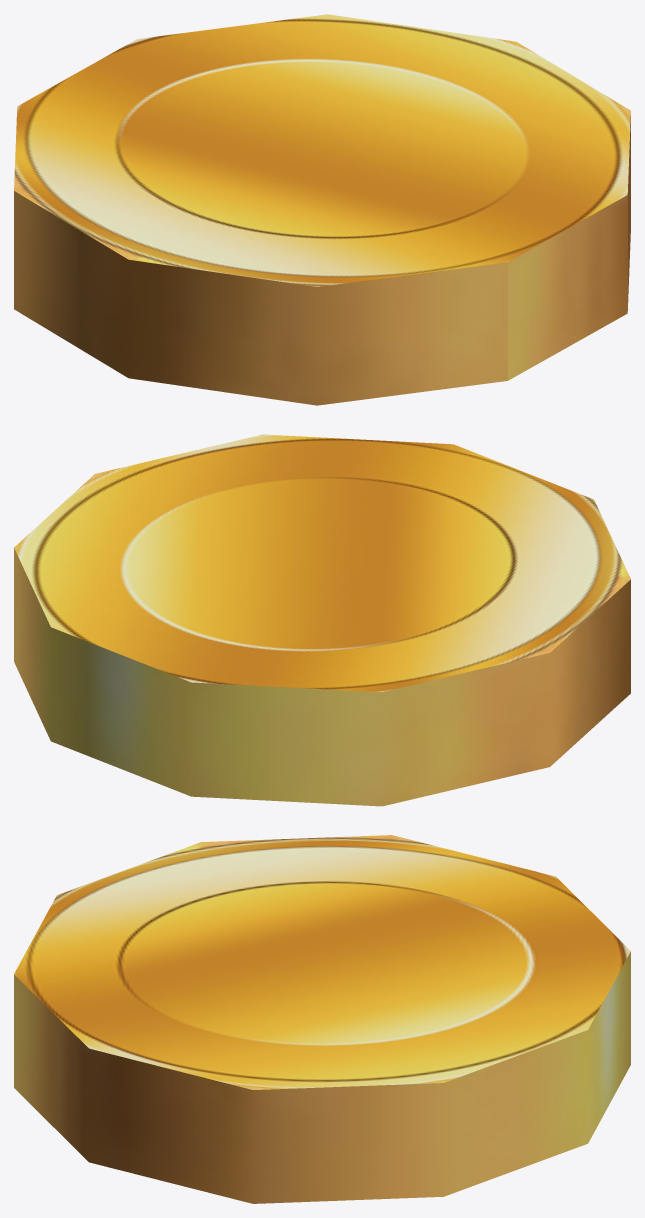
Rendered from goldcoin.FBX.
The picture shows the model from 3 angles, top to bottom: view 1: azimuth 30°, elevation 25°; view 2: azimuth 150°, elevation 25°; view 3: azimuth 270°, elevation 25°; orthographic projection. The views are drawn at different scales.
Visible parts, largest first — view 1: Object01; view 2: Object01; view 3: Object01.
Boxes of the visible parts, left/top/right/bottom form: Object01: left=14, top=14, right=630, bottom=405; Object01: left=14, top=434, right=630, bottom=806; Object01: left=14, top=835, right=630, bottom=1203.
Bounding box in the file's own units: 0.3888 × 0.0809 × 0.3974.
Materials: 1 (1 with a texture image).
